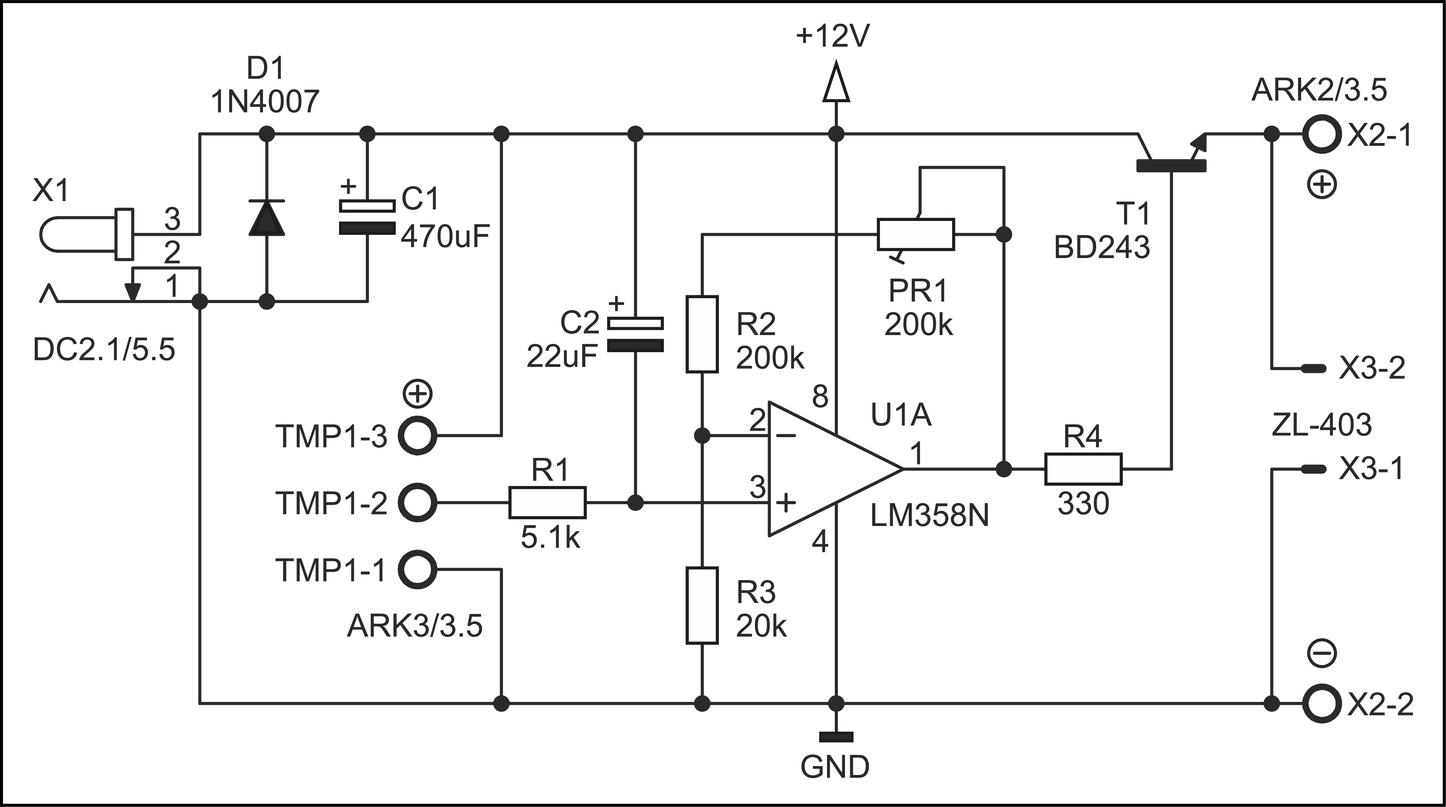C: (1034, 431, 1134, 493), (333, 193, 402, 242)
D: (601, 310, 671, 362)
Q: (758, 386, 916, 545), (1117, 108, 1226, 189)
R: (677, 284, 735, 387), (680, 553, 735, 653), (499, 473, 603, 523)
U: (236, 190, 303, 251)
